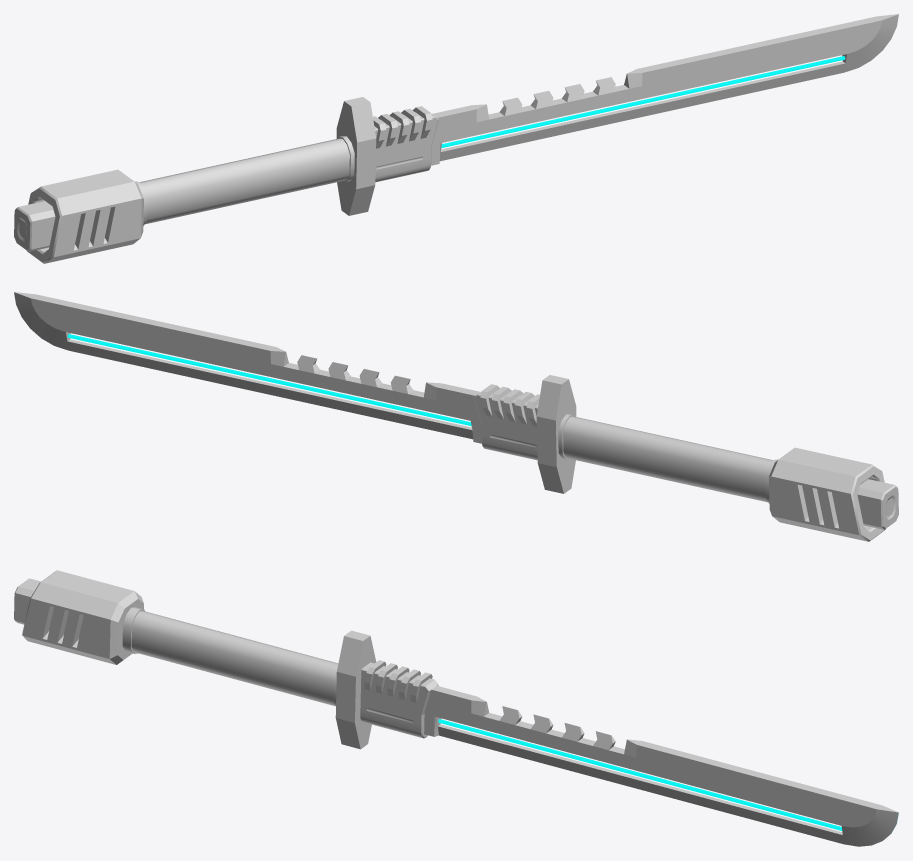
Rendered from sword2.glb.
3 renders of one model, top to bottom at view 1: azimuth 30°, elevation 25°; view 2: azimuth 150°, elevation 25°; view 3: azimuth 330°, elevation 25°, orthographic.
Visible parts, largest first — view 1: Sword_XR-8; view 2: Sword_XR-8; view 3: Sword_XR-8.
Boxes of the visible parts, bbox=[...] form: Sword_XR-8: bbox=[14, 14, 898, 263]; Sword_XR-8: bbox=[14, 292, 898, 541]; Sword_XR-8: bbox=[14, 570, 898, 846].
Bounding box in the file's own units: 1.5 × 0.1787 × 0.0923.
